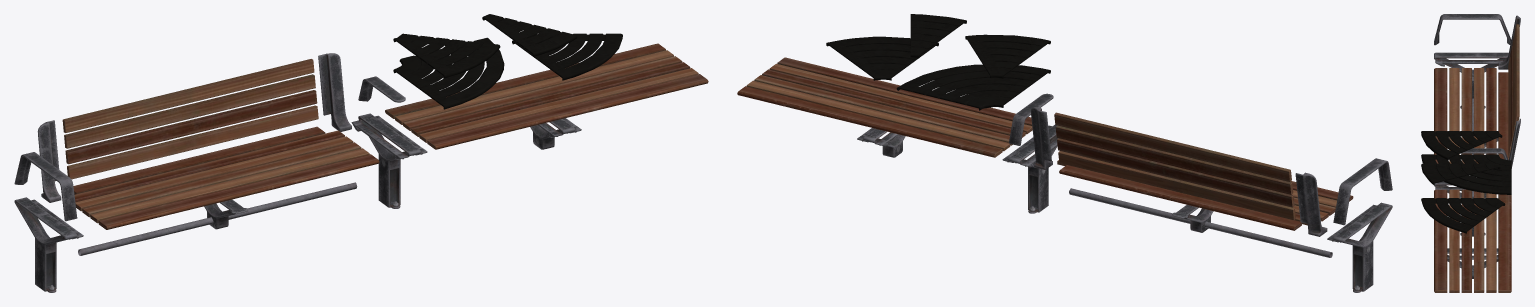
The model's file is modular_street_seating.glb.
3 views of the same model, side by side, from view 1: azimuth 30°, elevation 25°; view 2: azimuth 150°, elevation 25°; view 3: azimuth 270°, elevation 25° (orthographic). The views are drawn at different scales.
Visible parts, largest first — view 1: seat_back, seat, seat_bench, connector_90, legs_double, connector_45, legs_single, connector_60, crossbar, connector_30, back_support_l, arm_rest_01 (+4 smaller); view 2: seat_bench, seat_back, connector_90, seat, connector_60, legs_single, connector_45, crossbar, legs_double, connector_30, arm_rest_01, back_support_r (+4 smaller); view 3: seat_bench, seat, connector_90, connector_60, connector_45, seat_back, connector_30, legs_single, arm_rest_01, arm_rest_02, back_support_r, legs_double (+3 smaller).
Part boxes in pixels (x1=…): seat_back: x1=62, y1=59, x2=318, y2=179; seat: x1=73, y1=126, x2=379, y2=229; seat_bench: x1=385, y1=43, x2=708, y2=149; connector_90: x1=393, y1=37, x2=504, y2=109; legs_double: x1=351, y1=113, x2=427, y2=208; connector_45: x1=393, y1=33, x2=500, y2=78; legs_single: x1=14, y1=197, x2=83, y2=292; connector_60: x1=512, y1=33, x2=622, y2=80; crossbar: x1=78, y1=182, x2=357, y2=255; connector_30: x1=482, y1=14, x2=577, y2=56; back_support_l: x1=318, y1=53, x2=351, y2=131; arm_rest_01: x1=14, y1=152, x2=77, y2=221; seat_bench: x1=737, y1=57, x2=1032, y2=157; seat_back: x1=1054, y1=112, x2=1295, y2=220; connector_90: x1=896, y1=64, x2=1050, y2=110; seat: x1=1057, y1=160, x2=1353, y2=230; connector_60: x1=826, y1=36, x2=938, y2=80; legs_single: x1=1327, y1=202, x2=1392, y2=292; connector_45: x1=965, y1=34, x2=1050, y2=78; crossbar: x1=1069, y1=188, x2=1332, y2=257; legs_double: x1=1002, y1=124, x2=1058, y2=213; connector_30: x1=910, y1=14, x2=966, y2=57; arm_rest_01: x1=1333, y1=158, x2=1392, y2=225; back_support_r: x1=1295, y1=172, x2=1327, y2=236; seat_bench: x1=1434, y1=189, x2=1511, y2=292; seat: x1=1434, y1=68, x2=1508, y2=163; connector_90: x1=1421, y1=154, x2=1511, y2=194; connector_60: x1=1421, y1=198, x2=1505, y2=233; connector_45: x1=1421, y1=131, x2=1502, y2=160; seat_back: x1=1508, y1=24, x2=1519, y2=157; connector_30: x1=1421, y1=163, x2=1500, y2=185; legs_single: x1=1434, y1=52, x2=1508, y2=108; arm_rest_01: x1=1434, y1=14, x2=1511, y2=45; arm_rest_02: x1=1461, y1=148, x2=1508, y2=160; back_support_r: x1=1498, y1=15, x2=1520, y2=69; legs_double: x1=1434, y1=181, x2=1486, y2=236.
Size of the model in its own units: 4.34 by 0.95 by 0.7704.
4 materials, 4 textured.
